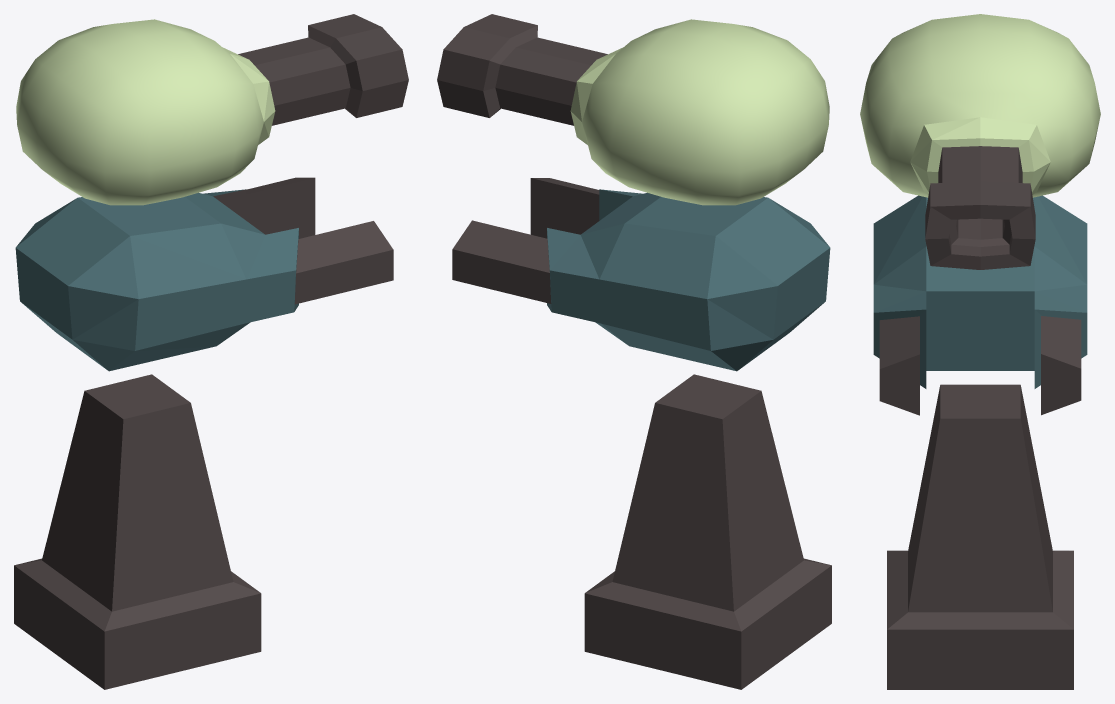
Rendered from turret_base.dae.
3 views of the same model, side by side, from view 1: azimuth 30°, elevation 25°; view 2: azimuth 150°, elevation 25°; view 3: azimuth 270°, elevation 25° (orthographic). The views are drawn at different scales.
Parts seen in each view (by area): view 1: base, turret_base, turret_upgrade_1, barrel, barrel_R, barrel_L; view 2: base, turret_base, turret_upgrade_1, barrel, barrel_L, barrel_R; view 3: base, turret_upgrade_1, turret_base, barrel, barrel_L, barrel_R.
Part boxes in pixels (box(x1,y1,x2,y2)): base: box(14, 374, 261, 689); turret_base: box(15, 189, 298, 371); turret_upgrade_1: box(16, 19, 275, 205); barrel: box(238, 14, 408, 125); barrel_R: box(294, 221, 393, 304); barrel_L: box(246, 177, 315, 238); base: box(584, 374, 831, 689); turret_base: box(547, 189, 830, 371); turret_upgrade_1: box(570, 19, 829, 205); barrel: box(437, 14, 607, 125); barrel_L: box(452, 220, 551, 303); barrel_R: box(530, 178, 599, 238); base: box(887, 384, 1073, 689); turret_upgrade_1: box(860, 14, 1100, 197); turret_base: box(873, 195, 1087, 388); barrel: box(925, 146, 1035, 269); barrel_L: box(1041, 316, 1081, 415); barrel_R: box(879, 316, 919, 415).
Size of the model in its own units: 5.17 by 3.03 by 8.6.
